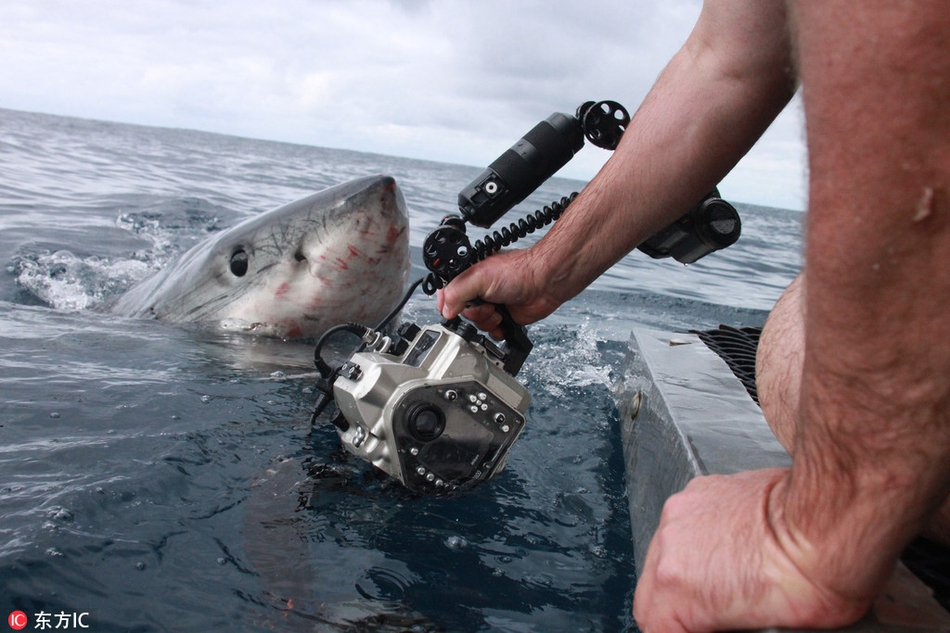shark: (37, 158, 437, 388)
